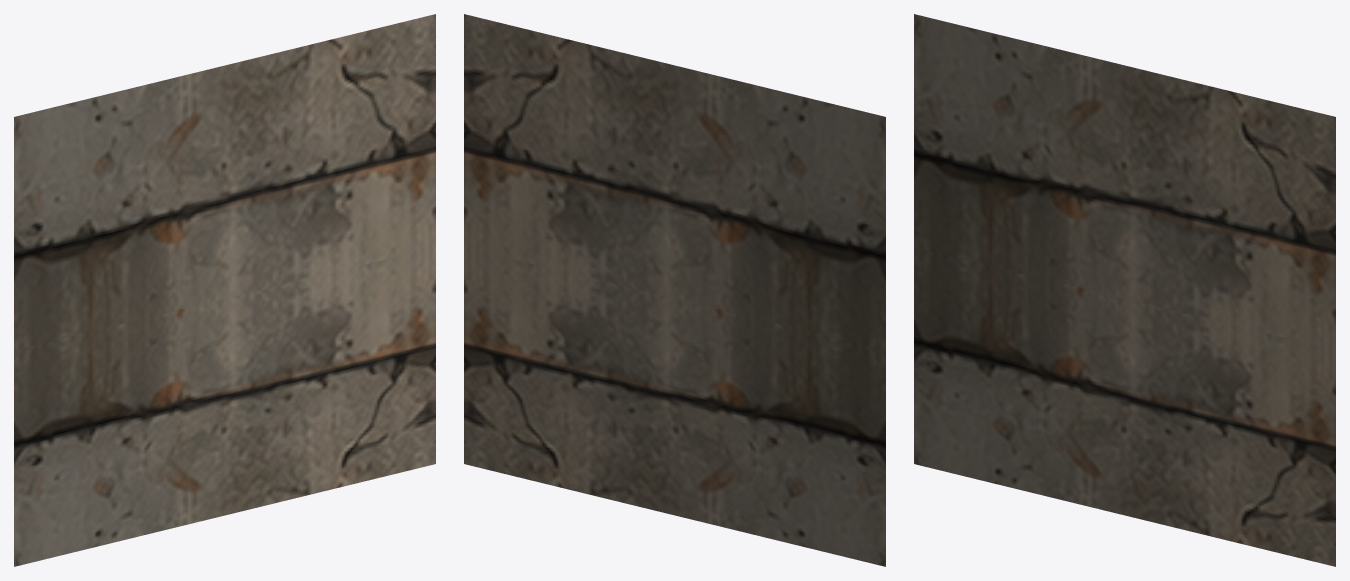
The model's file is wall_concrete_2.fbx.
3 renders of one model, left to right at view 1: azimuth 30°, elevation 25°; view 2: azimuth 150°, elevation 25°; view 3: azimuth 330°, elevation 25°, orthographic.
Visible parts, largest first — view 1: wall_concrete_2; view 2: wall_concrete_2; view 3: wall_concrete_2.
Part boxes in pixels (left/top/right/bottom): wall_concrete_2: left=14, top=14, right=435, bottom=566; wall_concrete_2: left=464, top=14, right=885, bottom=566; wall_concrete_2: left=914, top=14, right=1335, bottom=566.
Bounding box in the file's own units: 3 × 3.06 × 0.
